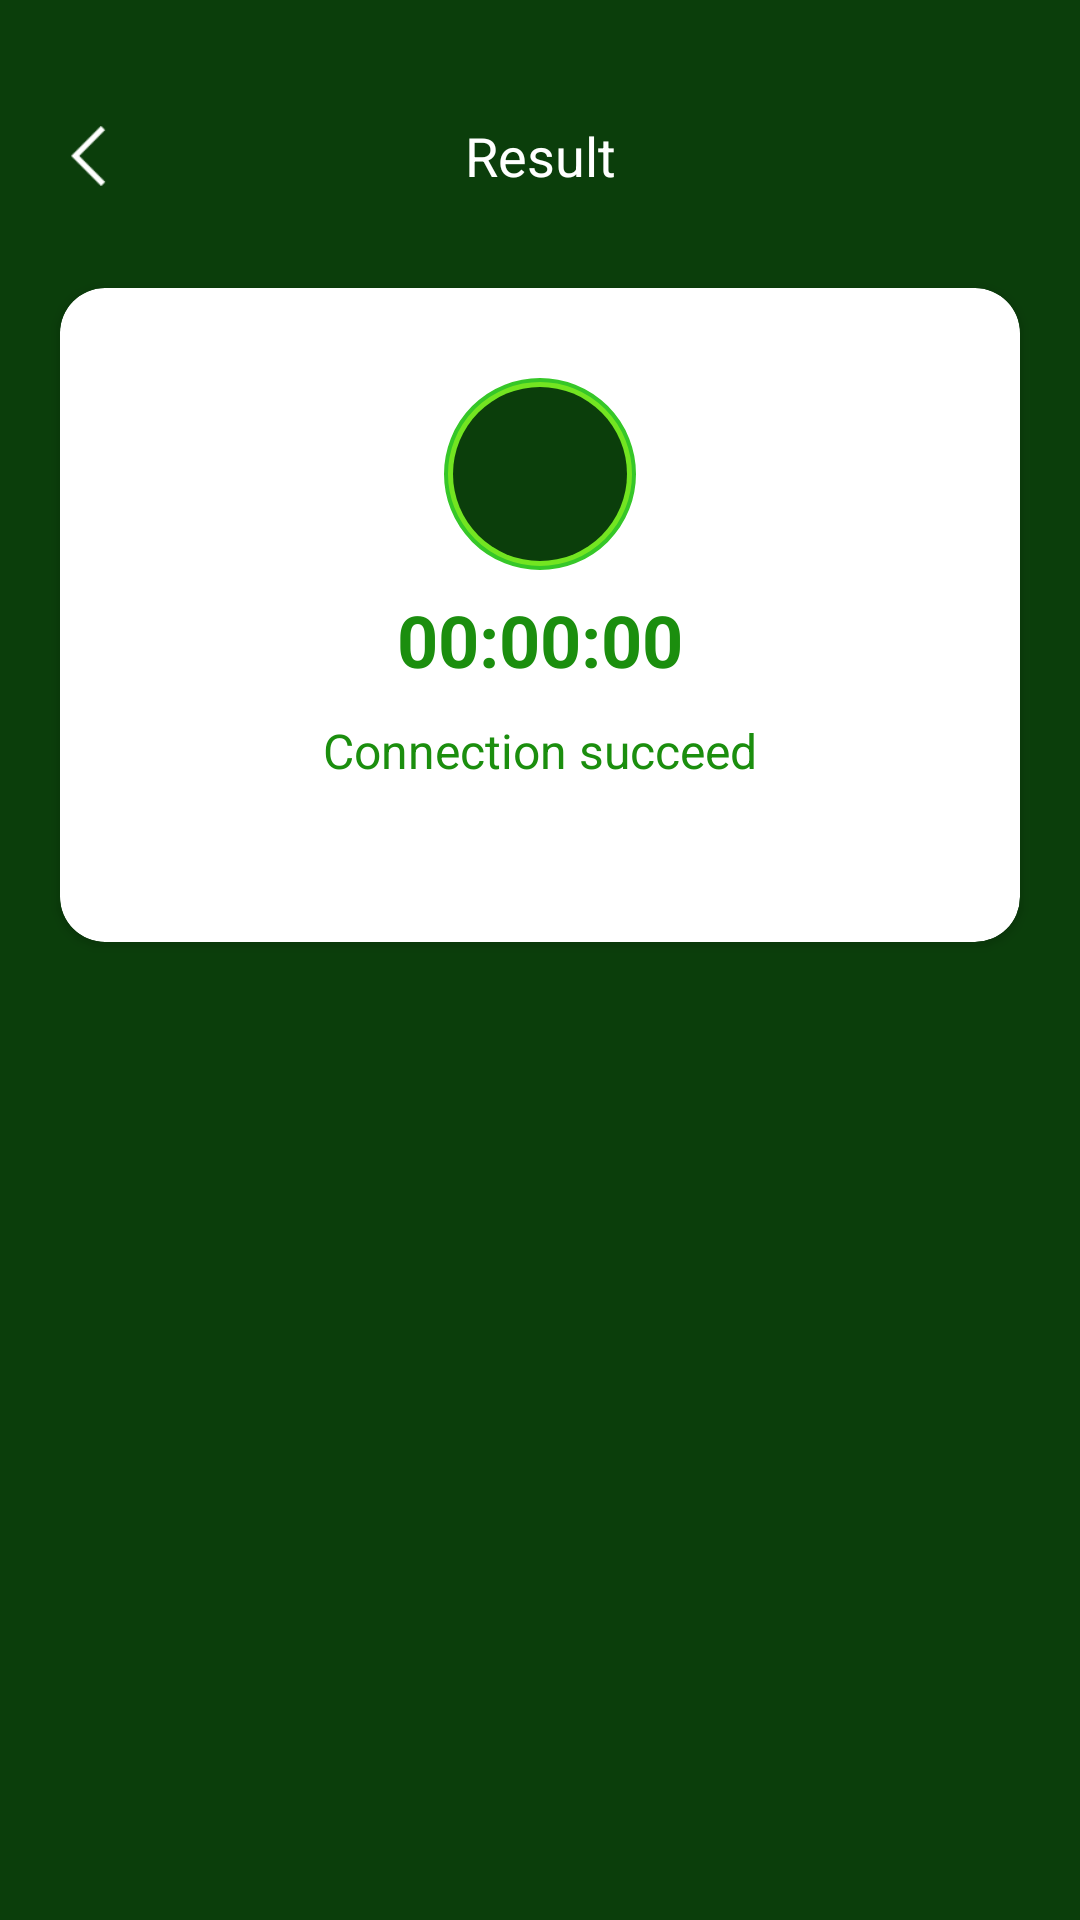

Screen size 1080px x 1920px. Icon name, then its box in pixels as [x1=x1, y1=y1, x2=x2, y2=y2]:
back: [x1=71, y1=126, x2=105, y2=186]
